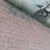others: (4, 1, 50, 25)
